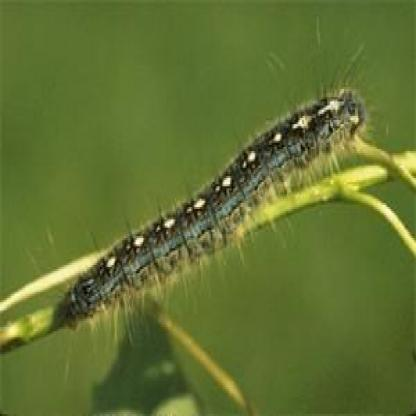armyworm: (58, 77, 376, 338)
